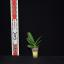leaf: (27, 32, 35, 45), (35, 36, 43, 45), (27, 38, 34, 46), (35, 40, 42, 46), (27, 45, 34, 48), (35, 45, 40, 48)
